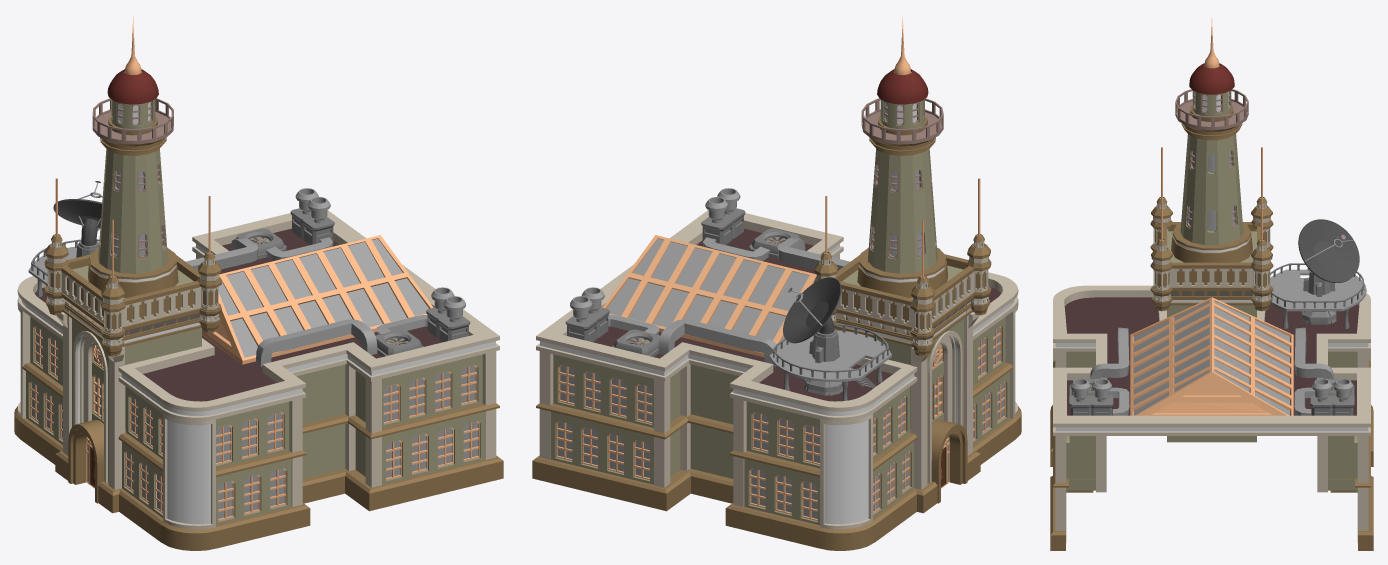
The model's file is Theatre.fbx.
The picture shows the model from 3 angles, left to right: view 1: azimuth 30°, elevation 25°; view 2: azimuth 150°, elevation 25°; view 3: azimuth 270°, elevation 25°; orthographic projection. The views are drawn at different scales.
Visible parts, largest first — view 1: Theater, glass_thing, tower, GLASS, pipes.001, antenna, Ventilation.002, Ventilation.001, pipes, Ventilation.003, Ventilation; view 2: Theater, tower, glass_thing, antenna, GLASS, pipes, Ventilation.001, Ventilation.002, pipes.001, Ventilation, Ventilation.003; view 3: Theater, glass_thing, tower, antenna, Ventilation.002, Ventilation.001, pipes.001, pipes.
Boxes of the visible parts, x1,y1,x2,y2 form: Theater: (14,178,503,550); glass_thing: (202,235,433,364); tower: (88,16,178,297); GLASS: (31,327,478,518); pipes.001: (256,315,427,366); antenna: (28,181,102,296); Ventilation.002: (290,188,334,244); Ventilation.001: (426,287,470,342); pipes: (186,237,333,270); Ventilation.003: (375,329,423,356); Ventilation: (235,228,286,259); Theater: (532,178,1021,550); tower: (857,16,947,297); glass_thing: (603,235,816,357); antenna: (769,277,891,400); GLASS: (557,327,1004,518); pipes: (608,315,778,366); Ventilation.001: (701,188,745,244); Ventilation.002: (565,287,609,342); pipes.001: (702,237,849,270); Ventilation: (612,329,660,356); Ventilation.003: (749,228,800,259); Theater: (1050,147,1373,550); glass_thing: (1130,297,1293,415); tower: (1171,18,1252,262); antenna: (1270,219,1366,328); Ventilation.002: (1310,378,1354,415); Ventilation.001: (1069,378,1113,415); pipes.001: (1090,327,1129,415); pipes: (1294,327,1333,415).
Bounding box in the file's own units: 3268 × 4298 × 3027.
